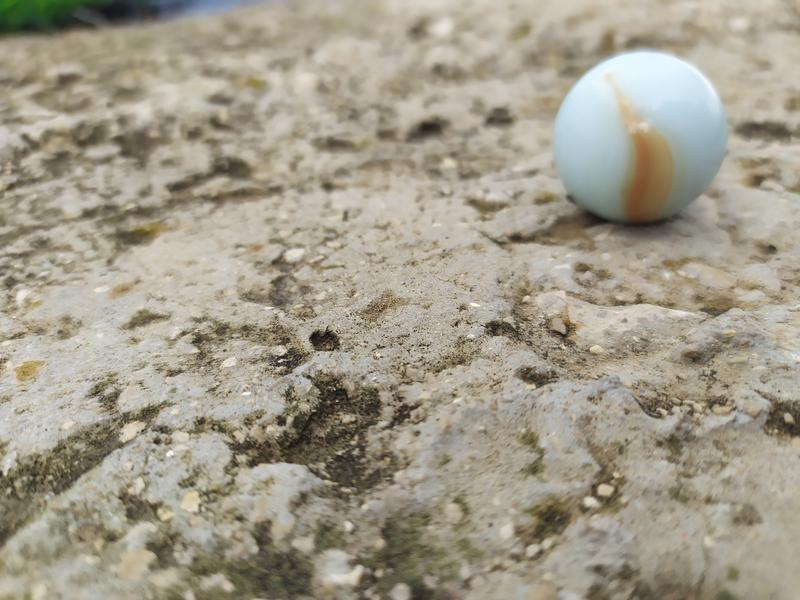Warning: (547, 50, 732, 228)
